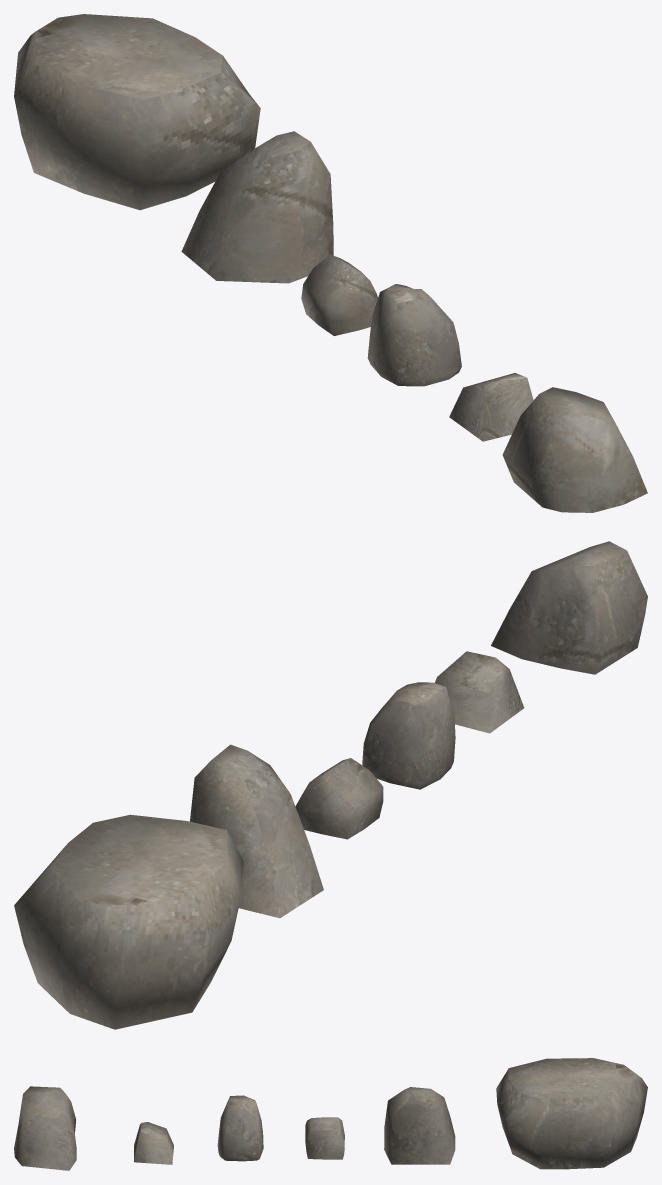
File: rock_set.fbx
The picture shows the model from 3 angles, top to bottom: view 1: azimuth 30°, elevation 25°; view 2: azimuth 150°, elevation 25°; view 3: azimuth 270°, elevation 25°; orthographic projection. The views are drawn at different scales.
Parts seen in each view (by area): view 1: Rock_06, Rock_05, Rock_04, Rock_03, Rock_02, Rock_01; view 2: Rock_06, Rock_04, Rock_05, Rock_03, Rock_02, Rock_01; view 3: Rock_06, Rock_05, Rock_04, Rock_03, Rock_02, Rock_01.
Part boxes in pixels (x1,y1,x2,y2): Rock_06: (14, 14, 260, 210); Rock_05: (181, 131, 333, 283); Rock_04: (502, 387, 647, 512); Rock_03: (367, 284, 461, 386); Rock_02: (301, 255, 377, 335); Rock_01: (449, 373, 533, 441); Rock_06: (14, 814, 243, 1029); Rock_04: (491, 541, 647, 674); Rock_05: (190, 744, 323, 918); Rock_03: (362, 682, 455, 789); Rock_02: (295, 758, 383, 839); Rock_01: (435, 651, 524, 733); Rock_06: (496, 1058, 647, 1169); Rock_05: (384, 1087, 455, 1164); Rock_04: (14, 1086, 76, 1170); Rock_03: (217, 1095, 263, 1161); Rock_02: (305, 1117, 344, 1159); Rock_01: (134, 1122, 173, 1164).
Size of the model in its own units: 150 by 94.66 by 770.
